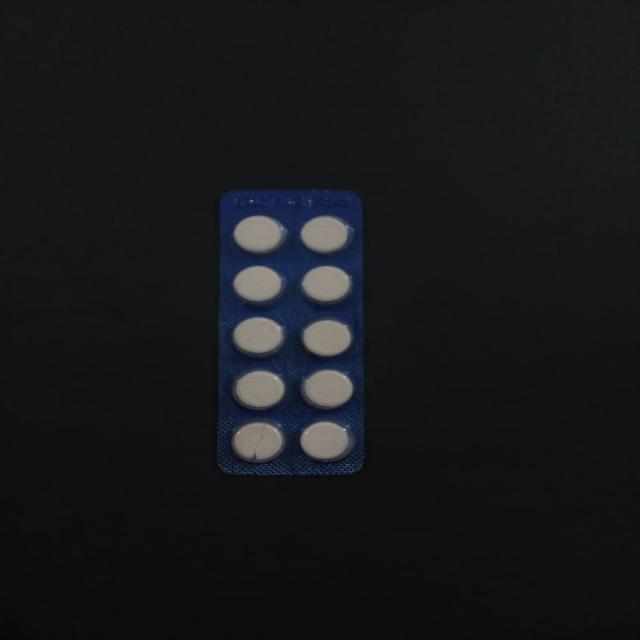defect: (229, 418, 288, 464)
